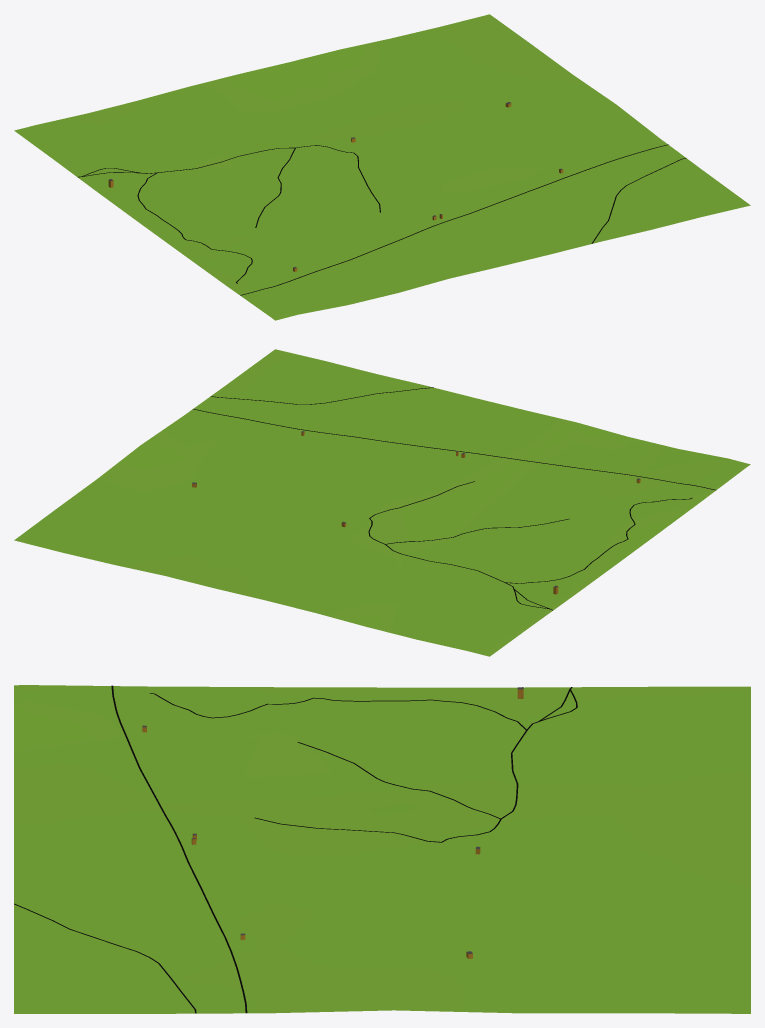
The model's file is tile_10_01.glb.
The picture shows the model from 3 angles, top to bottom: view 1: azimuth 30°, elevation 25°; view 2: azimuth 150°, elevation 25°; view 3: azimuth 270°, elevation 25°; orthographic projection. The views are drawn at different scales.
Parts seen in each view (by area): view 1: Terrain_10_01, Ub_small.osm_paths_footway_10_01, Ub_small.osm_paths_cycleway_10_01; view 2: Terrain_10_01, Ub_small.osm_paths_footway_10_01, Ub_small.osm_paths_cycleway_10_01; view 3: Terrain_10_01, Ub_small.osm_paths_footway_10_01, Ub_small.osm_paths_cycleway_10_01.
Boxes of the visible parts, <box> form: Terrain_10_01: <box>14,14,750,320</box>; Ub_small.osm_paths_footway_10_01: <box>77,145,686,283</box>; Ub_small.osm_paths_cycleway_10_01: <box>240,144,668,295</box>; Terrain_10_01: <box>14,349,750,656</box>; Ub_small.osm_paths_footway_10_01: <box>211,387,692,610</box>; Ub_small.osm_paths_cycleway_10_01: <box>193,409,715,490</box>; Terrain_10_01: <box>14,685,750,1013</box>; Ub_small.osm_paths_footway_10_01: <box>14,687,577,1013</box>; Ub_small.osm_paths_cycleway_10_01: <box>111,685,247,1013</box>.
Bounding box in the file's own units: 978 × 15.5 × 930.
